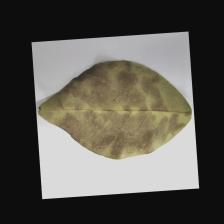black spot: (74, 85, 195, 157)
